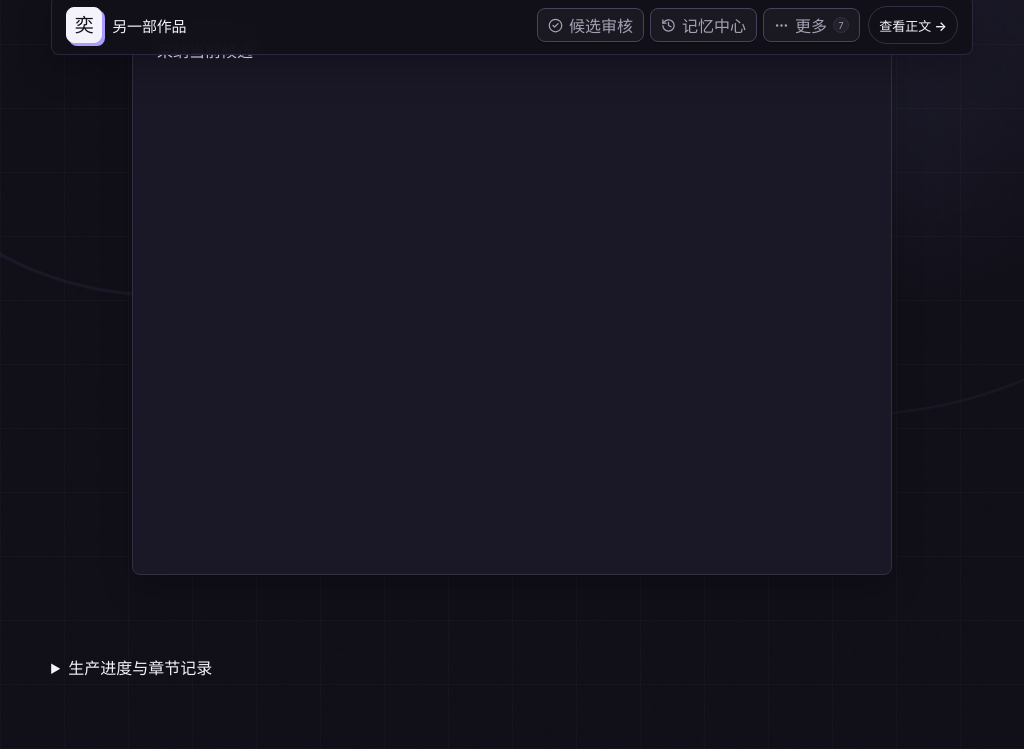
it: ProductionRoom queue health › puts the current review before collapsed production logs and progress detail
(page scrolled)
Click the heading "生产进度与章节记录": click(140, 668) [68,658,212,678]
(page scrolled)
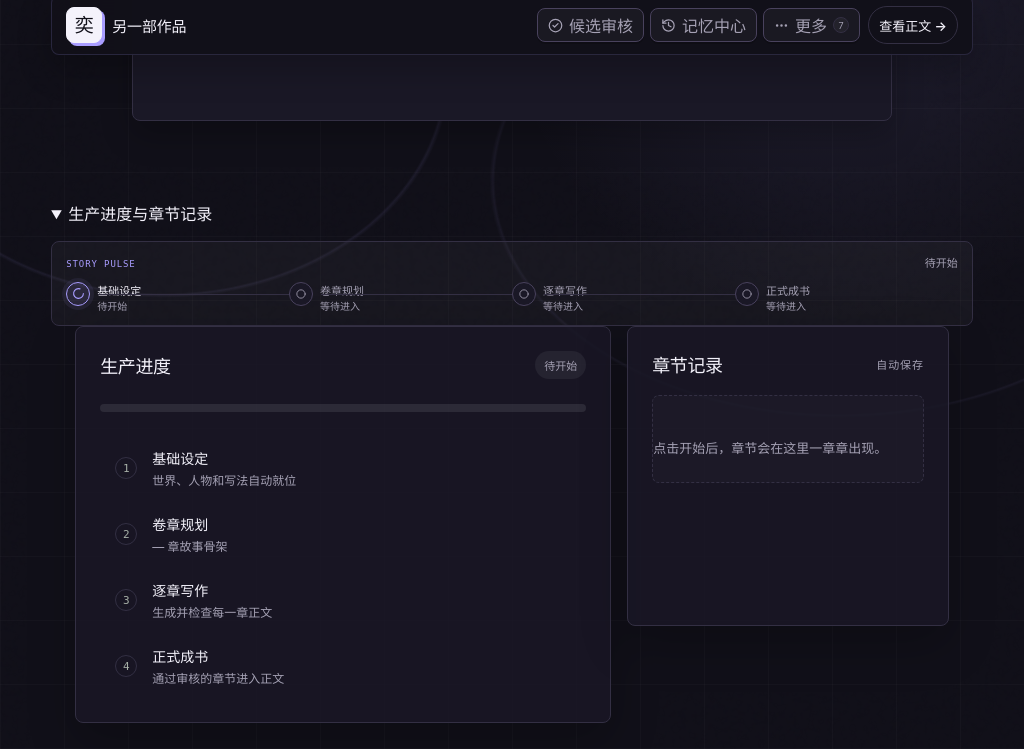
Expected: the heading "生产进度" is shown, [100,352,171,378]
